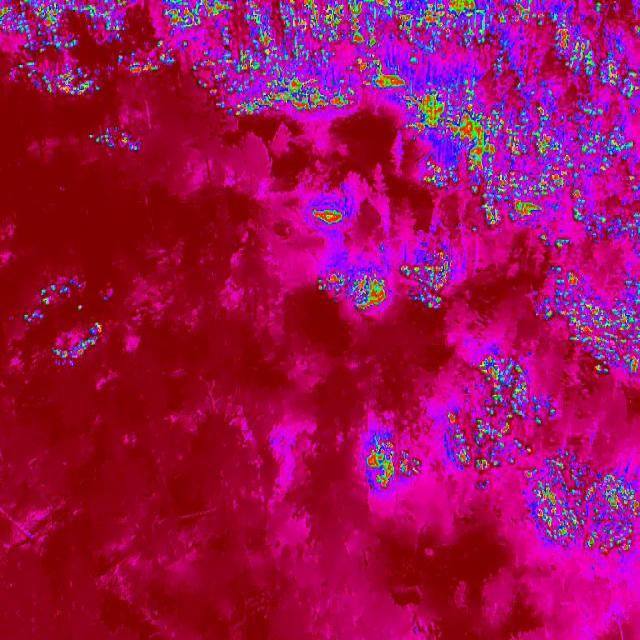fire: (164, 0, 640, 119), (407, 118, 640, 232), (442, 352, 564, 488), (527, 456, 640, 568), (0, 0, 129, 98), (537, 264, 640, 378), (23, 279, 108, 375), (314, 263, 394, 315), (364, 429, 424, 497), (400, 249, 460, 312), (533, 230, 640, 265), (89, 126, 142, 159), (313, 199, 353, 236)
